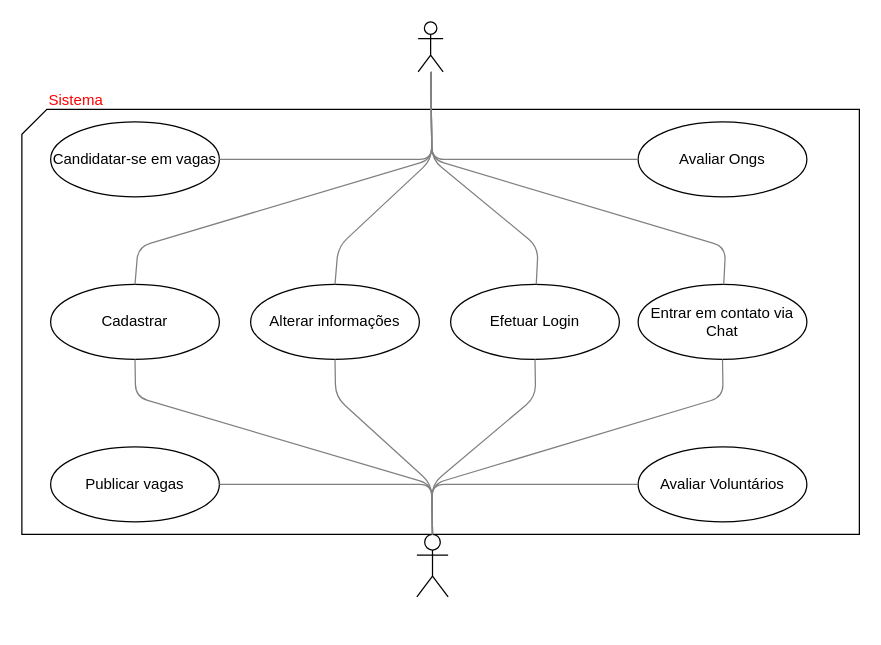
This 881x645 diagram has some shape labels left out. Each missing label, with the centre of its shape:
"ONG" belongs at point (432, 565).
"Voluntário" belongs at point (430, 46).
